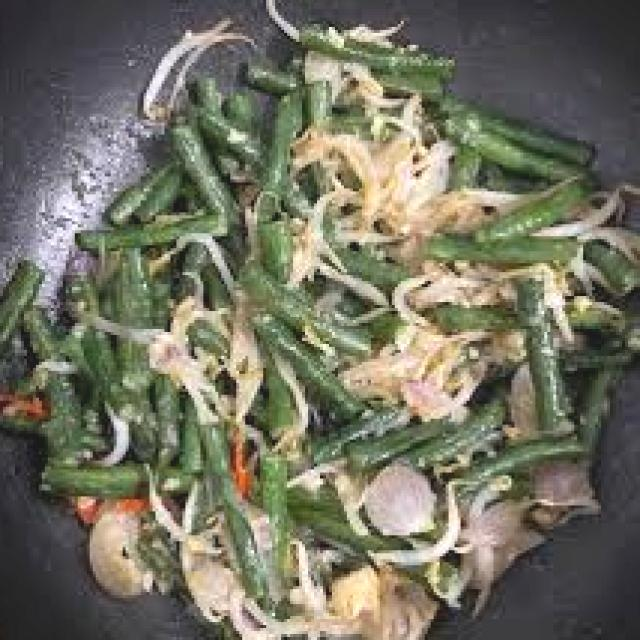kacang_panjang: (0, 30, 640, 580)
